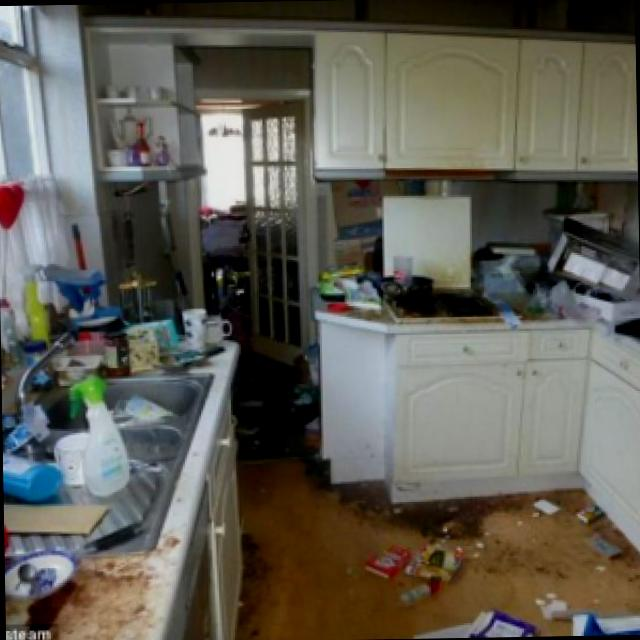mess: (0, 237, 266, 640), (331, 223, 640, 427), (298, 490, 640, 640), (338, 456, 561, 574)
